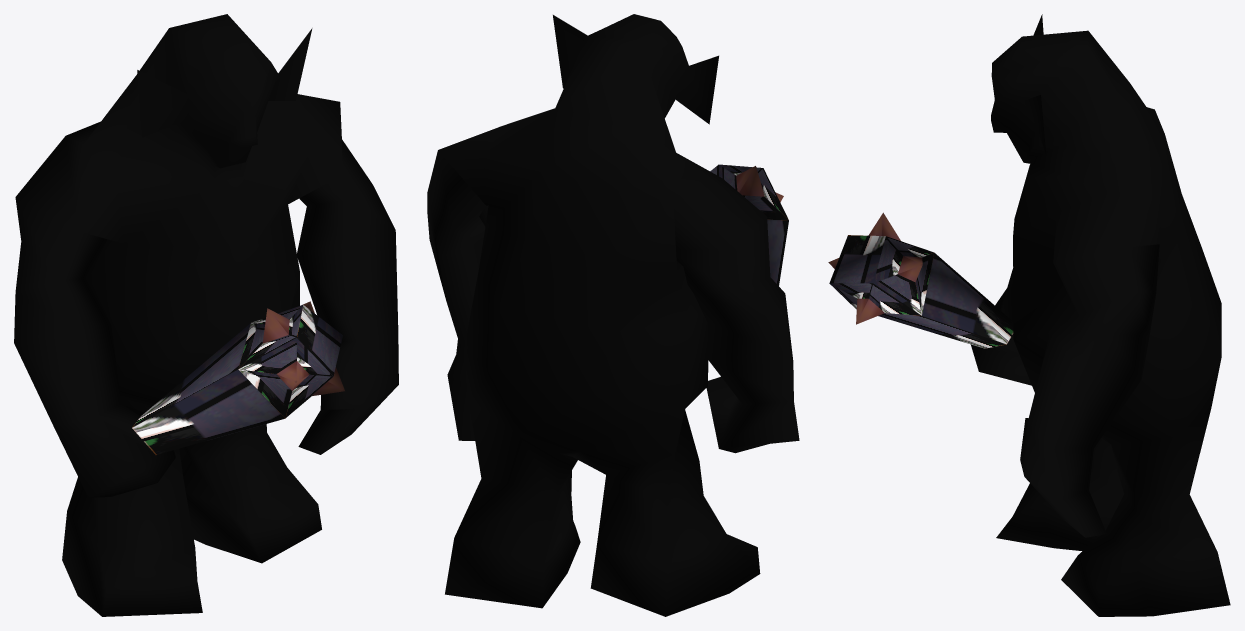
3 views of the same model, side by side, from view 1: azimuth 30°, elevation 25°; view 2: azimuth 150°, elevation 25°; view 3: azimuth 270°, elevation 25° (orthographic). The views are drawn at different scales.
Visible parts, largest first — view 1: T1L6M005_22; view 2: T1L6M005_22; view 3: T1L6M005_22.
Part boxes in pixels (<box>): T1L6M005_22: <box>14,14,398,616</box>; T1L6M005_22: <box>427,14,799,616</box>; T1L6M005_22: <box>828,14,1230,616</box>.
Bounding box in the file's own units: 1.01 × 1.4 × 0.9893.
